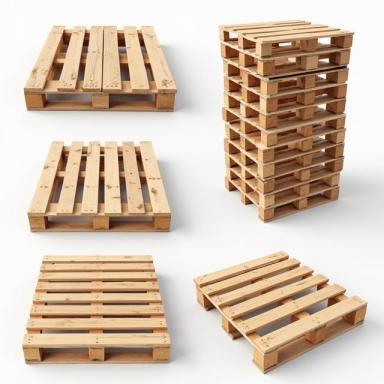pallet: (193, 250, 367, 374), (22, 255, 171, 364), (24, 25, 177, 112), (27, 140, 171, 232), (225, 177, 340, 223), (222, 106, 346, 147), (224, 137, 345, 179), (218, 19, 354, 56), (225, 153, 344, 195), (220, 40, 351, 78), (225, 123, 347, 163), (226, 166, 341, 208), (223, 91, 346, 130), (223, 58, 349, 96), (224, 76, 347, 113), (109, 94, 155, 101), (275, 57, 296, 69)
